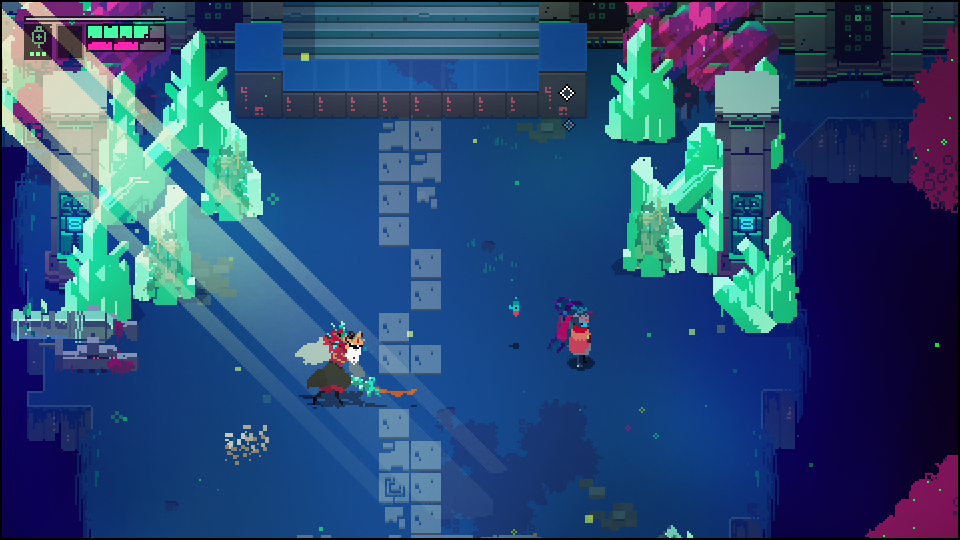hanged_man: (304, 324, 384, 401)
player: (568, 312, 596, 373)
